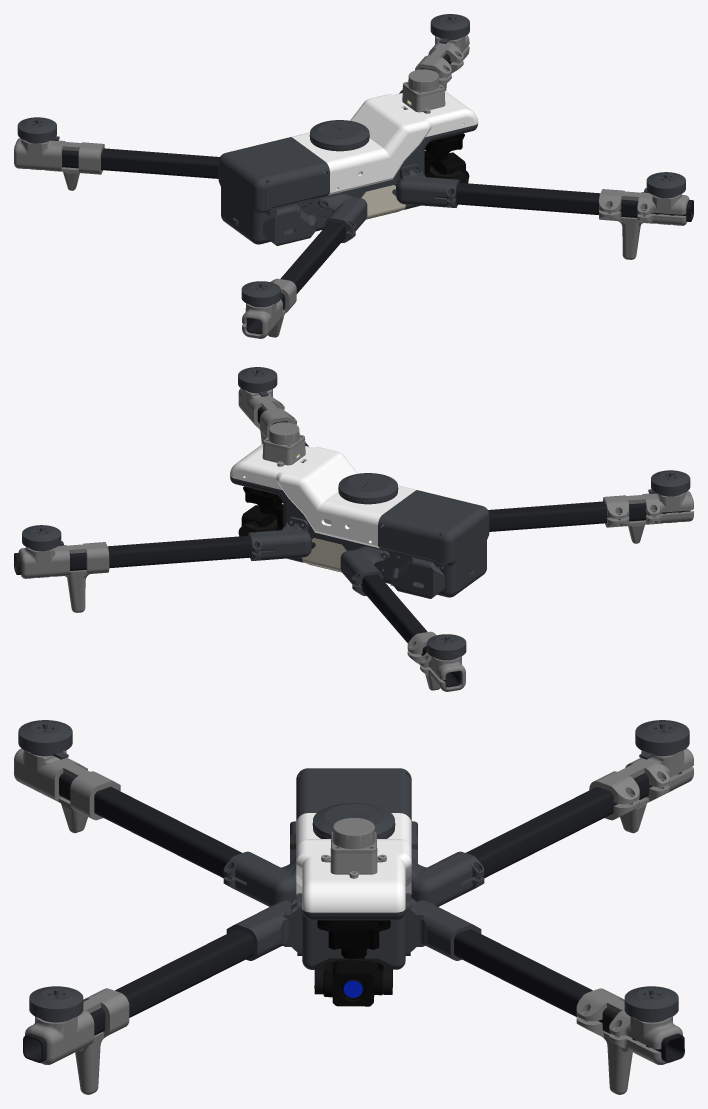
The picture shows the model from 3 angles, top to bottom: view 1: azimuth 30°, elevation 25°; view 2: azimuth 150°, elevation 25°; view 3: azimuth 270°, elevation 25°; orthographic projection. The views are drawn at different scales.
Visible parts, largest first — view 1: top_cover-1, back_cover2-1, CF_Arm-3, back_frame2-1, motor_mount-2, CF_Arm-4, motor_mount-3, wiring_enclosure-1, CF_Arm-2, front_static_mount-1, SIYI_A8_mini-2, Here4-1 (+10 smaller); view 2: top_cover-1, back_cover2-1, CF_Arm-1, back_frame2-1, CF_Arm-2, motor_mount-1, motor_mount-4, wiring_enclosure-1, CF_Arm-4, front_static_mount-2, SIYI_A8_mini-2, motor_mount-3 (+10 smaller); view 3: top_cover-1, CF_Arm-3, CF_Arm-1, SIYI_A8_mini-2, CF_Arm-2, CF_Arm-4, motor_mount-1, back_cover2-1, motor_mount-2, motor_mount-4, motor_mount-3, mounting_plate-1 (+10 smaller).
Part boxes in pixels (<box>): top_cover-1: <box>291,91,478,195</box>; back_cover2-1: <box>226,137,329,211</box>; CF_Arm-3: <box>435,182,693,221</box>; back_frame2-1: <box>218,153,332,244</box>; motor_mount-2: <box>599,189,689,259</box>; CF_Arm-4: <box>62,148,219,178</box>; motor_mount-3: <box>14,138,104,190</box>; wiring_enclosure-1: <box>261,199,327,245</box>; CF_Arm-2: <box>246,221,346,334</box>; front_static_mount-1: <box>396,163,459,207</box>; SIYI_A8_mini-2: <box>424,133,469,183</box>; Here4-1: <box>309,120,369,151</box>; top_cover-1: <box>229,444,416,548</box>; back_cover2-1: <box>378,490,481,564</box>; CF_Arm-1: <box>14,535,273,574</box>; back_frame2-1: <box>375,506,489,597</box>; CF_Arm-2: <box>488,501,689,531</box>; motor_mount-1: <box>18,542,109,612</box>; motor_mount-4: <box>603,491,693,543</box>; wiring_enclosure-1: <box>380,552,446,598</box>; CF_Arm-4: <box>361,574,461,687</box>; front_static_mount-2: <box>248,516,311,560</box>; SIYI_A8_mini-2: <box>238,486,283,536</box>; motor_mount-3: <box>407,631,465,691</box>; top_cover-1: <box>296,813,411,912</box>; CF_Arm-3: <box>23,929,253,1062</box>; CF_Arm-1: <box>454,929,684,1062</box>; SIYI_A8_mini-2: <box>314,920,392,1006</box>; CF_Arm-2: <box>59,773,241,878</box>; CF_Arm-4: <box>466,772,681,878</box>; motor_mount-1: <box>576,988,682,1094</box>; back_cover2-1: <box>296,769,411,821</box>; motor_mount-2: <box>25,988,129,1094</box>; motor_mount-4: <box>14,748,120,833</box>; motor_mount-3: <box>589,748,693,833</box>; mounting_plate-1: <box>302,909,405,969</box>.
Size of the model in its own units: 0.5917 by 0.1748 by 0.5588.
